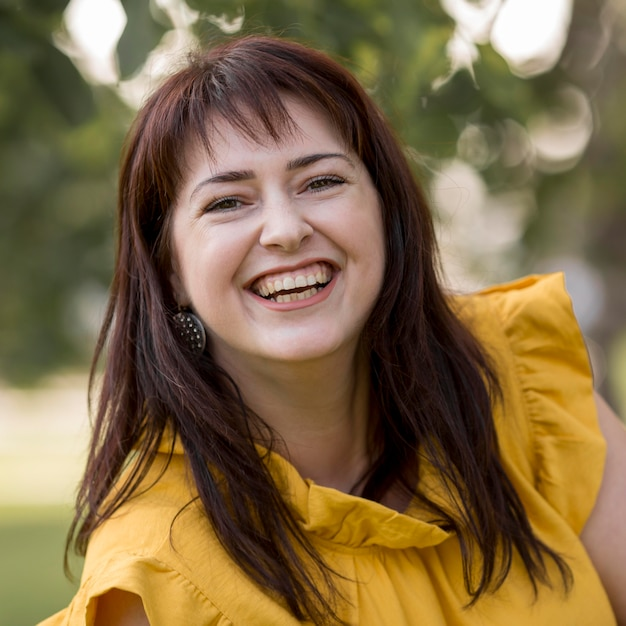teen: (127, 30, 399, 374)
